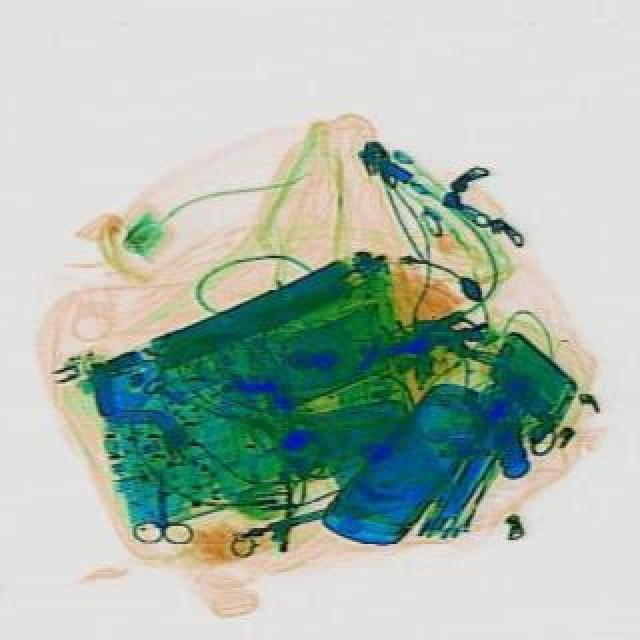pliers: (130, 470, 190, 544)
